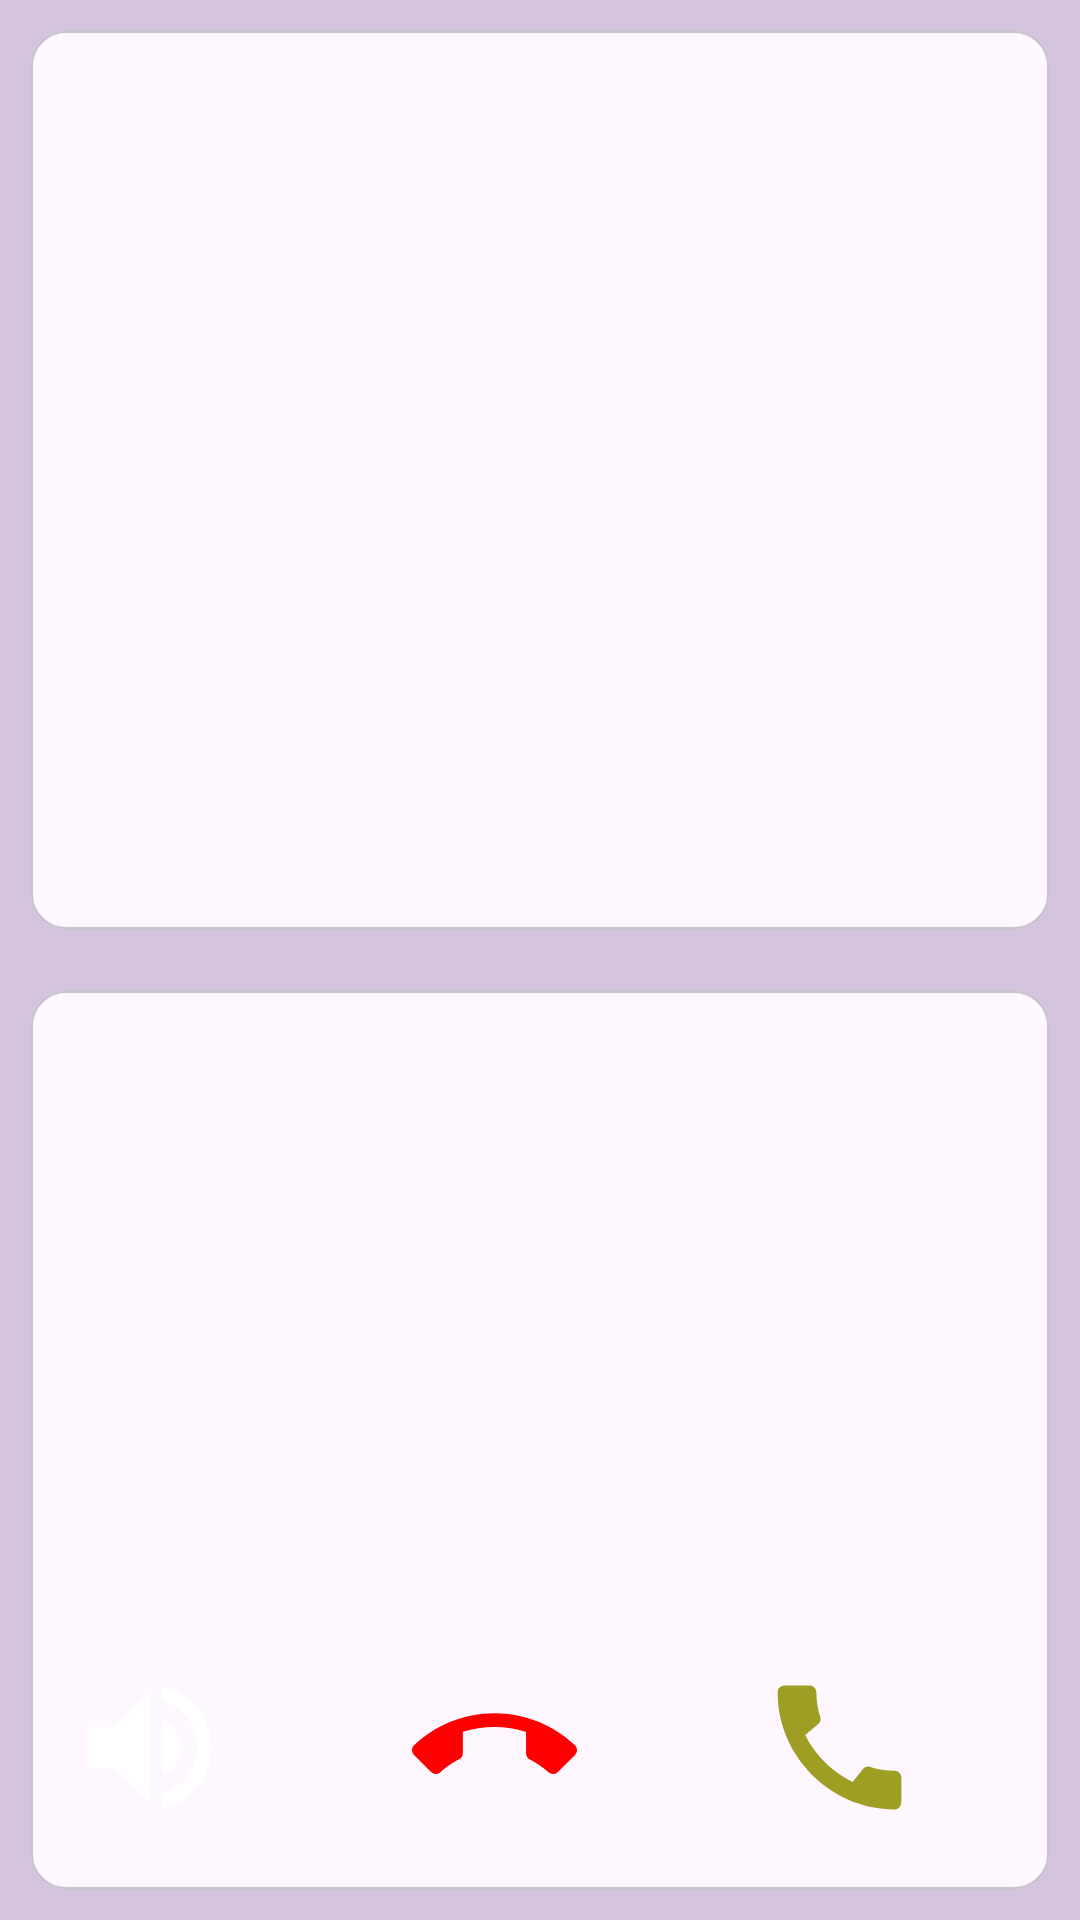

Screen size 1080*1920. Icon name, then its center in pixels as (x=x, y=y):
call: (x=839, y=1747)
call end: (x=494, y=1743)
